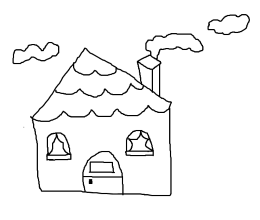clouds: (9, 36, 64, 70), (206, 9, 258, 42)
door: (75, 146, 127, 203)
open_window: (122, 123, 162, 160), (42, 127, 74, 163)
roof: (16, 44, 177, 126)
smoking_chimney: (127, 26, 205, 97)
wall: (28, 102, 179, 204)
